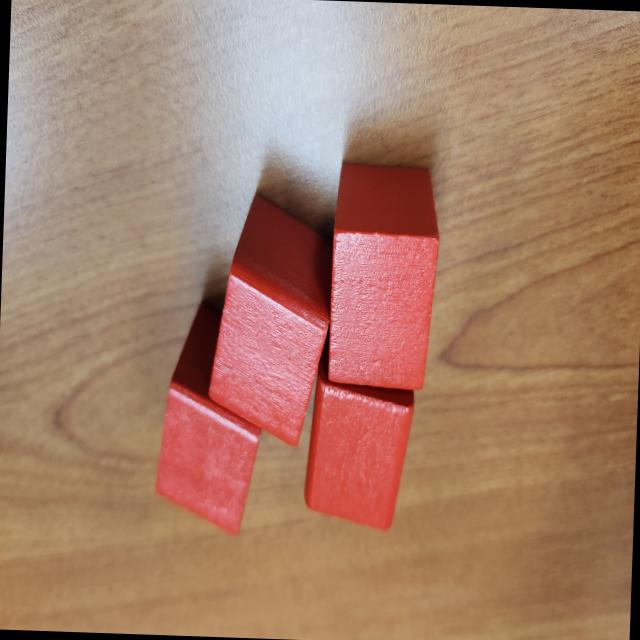red: (206, 190, 334, 450), (152, 300, 274, 540), (324, 162, 442, 392), (302, 346, 419, 534)
